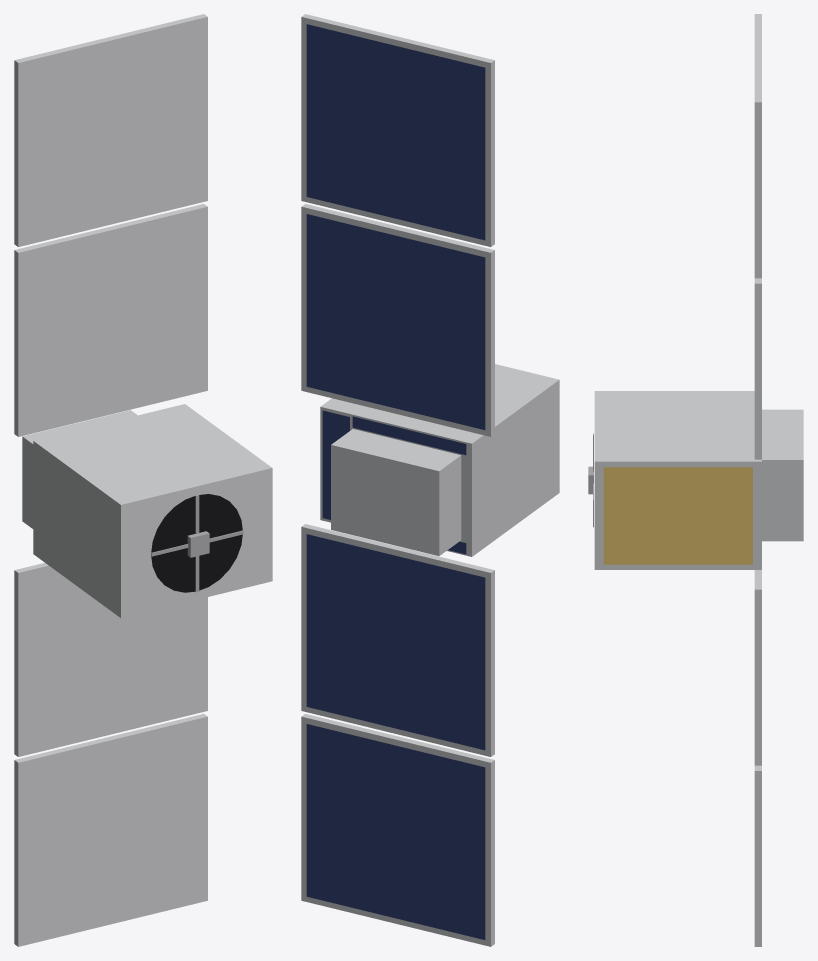
File: spacecraft.glb
3 views of the same model, side by side, from view 1: azimuth 30°, elevation 25°; view 2: azimuth 150°, elevation 25°; view 3: azimuth 270°, elevation 25° (orthographic). The views are drawn at different scales.
Parts seen in each view (by area): view 1: Wing +y outer, Wing -y outer, Wing +y inner, Wing -y inner, Bus, Radiator, Aperture, Deck housing; view 2: Wing +y outer cells, Wing -y outer cells, Wing +y inner cells, Wing -y inner cells, Bus, Deck housing, Wing +y inner, Wing +y outer, Wing -y inner, Wing -y outer, Deck cells, Radiator; view 3: Front face, Bus, Radiator, Deck housing, Wing +y outer, Wing -y inner, Wing +y inner, Wing -y outer.
Part boxes in pixels (x1,y1,x2,y2): Wing +y outer: (14,14,207,246); Wing -y outer: (14,714,207,946); Wing +y inner: (14,204,207,436); Wing -y inner: (14,563,207,756); Bus: (33,404,272,617); Radiator: (54,414,251,493); Aperture: (151,494,242,592); Deck housing: (22,410,137,528); Wing +y outer cells: (306,24,485,240); Wing -y outer cells: (306,724,485,939); Wing +y inner cells: (306,214,485,429); Wing -y inner cells: (306,534,485,750); Bus: (320,364,559,556); Deck housing: (331,429,461,555); Wing +y inner: (301,204,494,436); Wing +y outer: (301,14,494,246); Wing -y inner: (301,524,494,756); Wing -y outer: (301,714,494,946); Deck cells: (322,410,466,554); Radiator: (495,375,538,417); Front face: (603,467,752,564); Bus: (594,391,761,569); Radiator: (618,394,737,457); Deck housing: (762,409,803,541); Wing +y outer: (754,14,761,278); Wing -y inner: (754,570,761,765); Wing +y inner: (754,278,761,459); Wing -y outer: (754,765,761,946).
Bounding box in the file's own units: 0.7 × 3.12 × 0.722.
